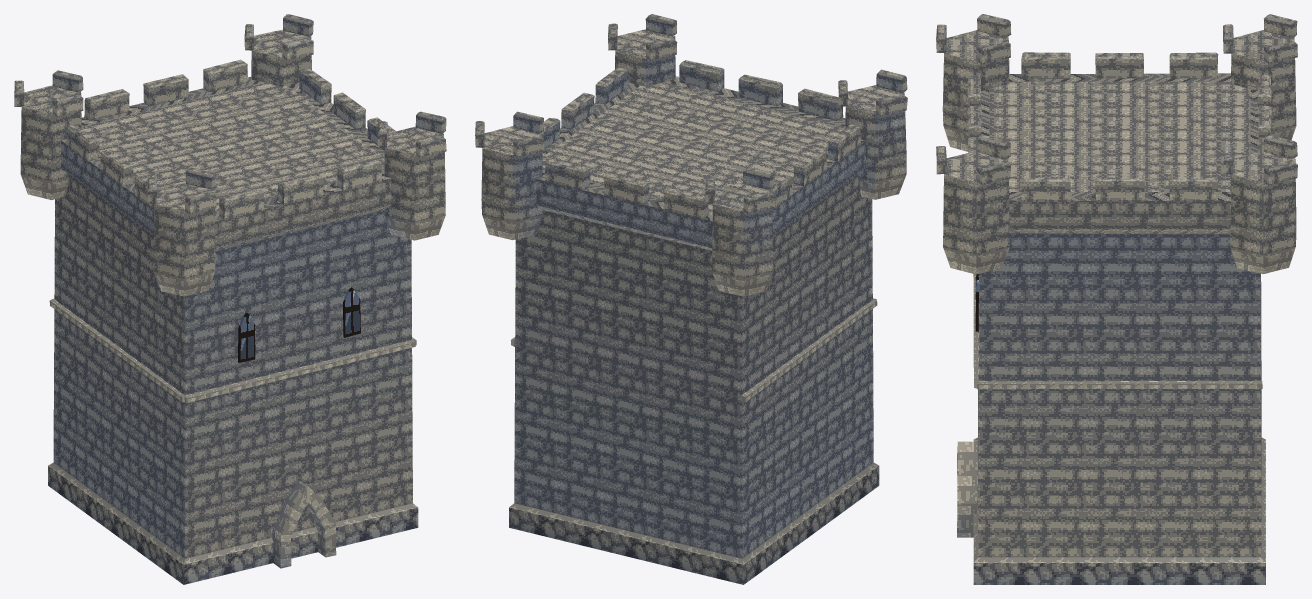
Rendered from cst.keep__crenellated.glb.
3 renders of one model, left to right at view 1: azimuth 30°, elevation 25°; view 2: azimuth 150°, elevation 25°; view 3: azimuth 270°, elevation 25°, orthographic. The views are drawn at different scales.
Visible parts, largest first — view 1: kit_walls, kit_top, kit_detail; view 2: kit_walls, kit_top, kit_detail; view 3: kit_walls, kit_top, kit_detail.
Part boxes in pixels (box(x1,y1,x2,y2)): kit_walls: box(48, 174, 418, 584); kit_top: box(14, 14, 446, 296); kit_detail: box(49, 287, 416, 568); kit_walls: box(509, 174, 879, 584); kit_top: box(475, 14, 907, 296); kit_detail: box(511, 298, 877, 402); kit_walls: box(973, 233, 1265, 584); kit_top: box(936, 14, 1297, 274); kit_detail: box(957, 274, 1262, 537).
Size of the model in its own units: 13.13 by 16.8 by 12.75.
5 materials, 5 textured.
